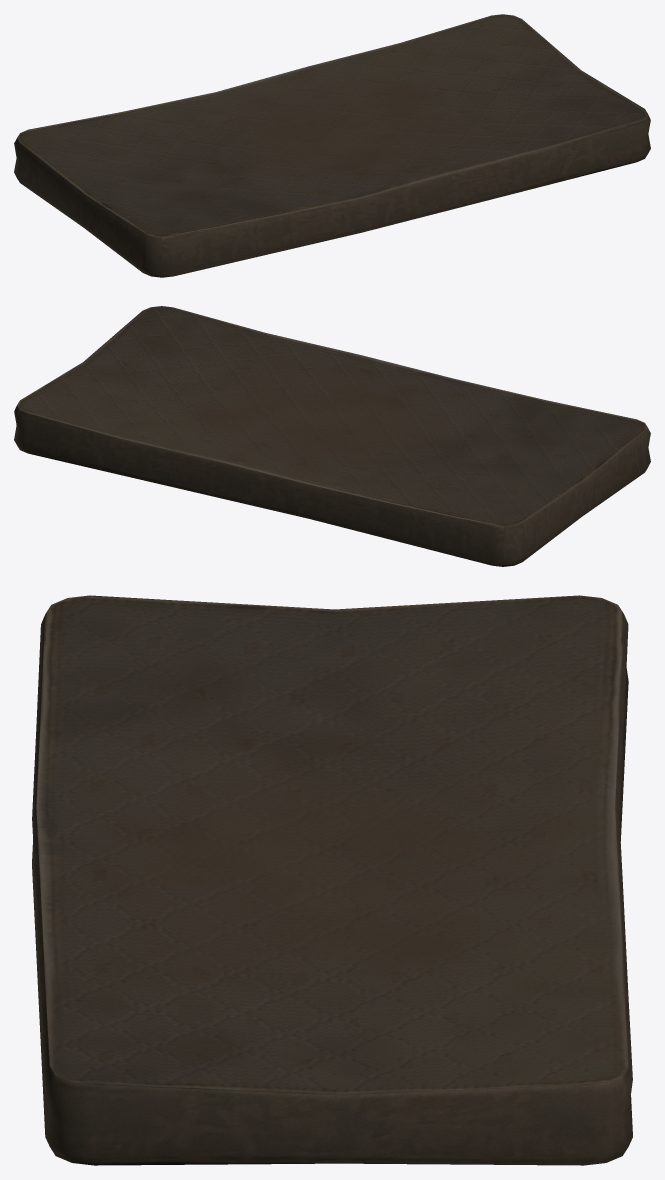
File: old_mattress_mp_1.fbx
3 views of the same model, one above another, from view 1: azimuth 30°, elevation 25°; view 2: azimuth 150°, elevation 25°; view 3: azimuth 270°, elevation 25° (orthographic). The views are drawn at different scales.
Visible parts, largest first — view 1: old_mattress_mp_1; view 2: old_mattress_mp_1; view 3: old_mattress_mp_1.
Part boxes in pixels (x1,y1,x2,y2): old_mattress_mp_1: (14,14,650,277); old_mattress_mp_1: (14,306,650,566); old_mattress_mp_1: (32,595,632,1165).
Size of the model in its own units: 2.62 by 0.2 by 1.35.
Materials: 1 (1 with a texture image).
